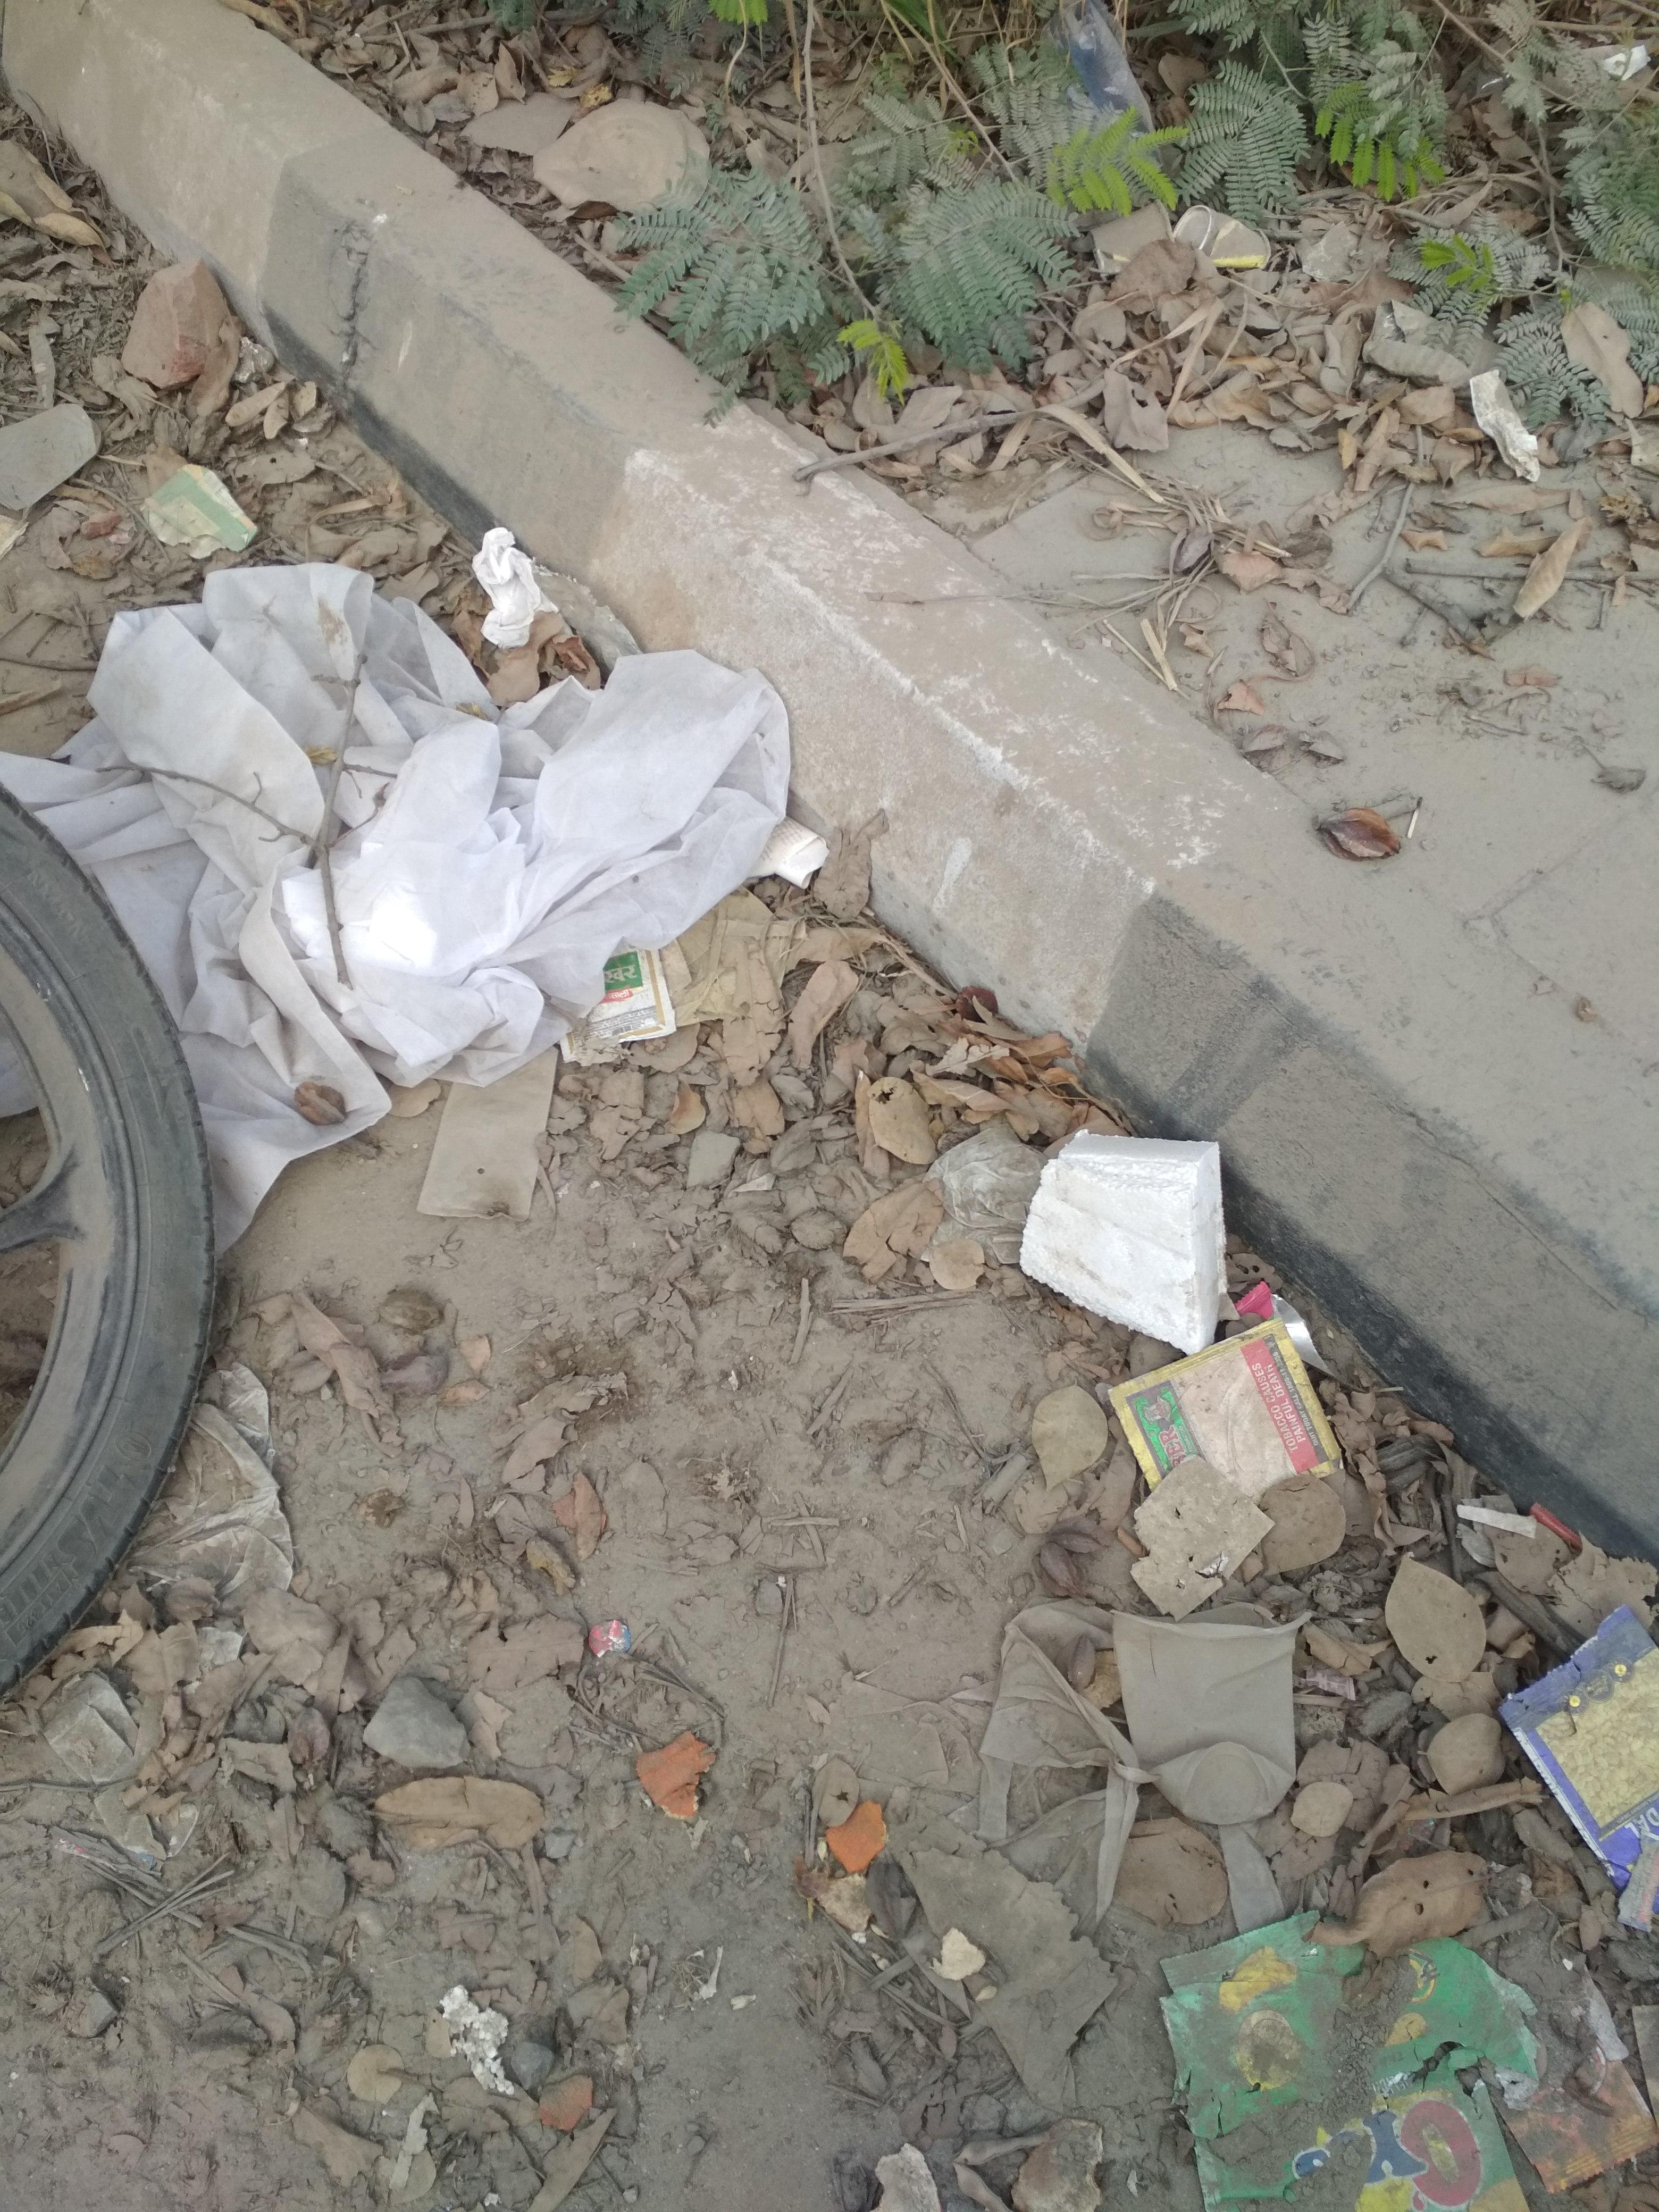trash: (0, 490, 845, 1713), (1011, 1107, 1658, 2211)
